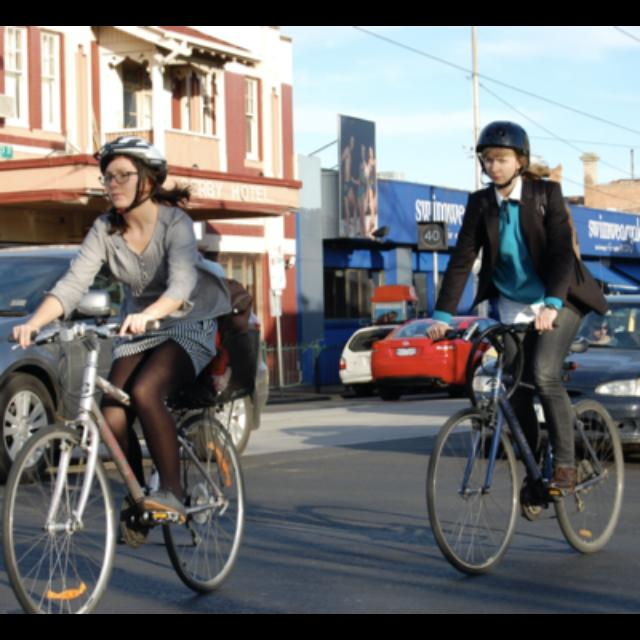With Helmet: (92, 135, 175, 215), (465, 110, 539, 194)
